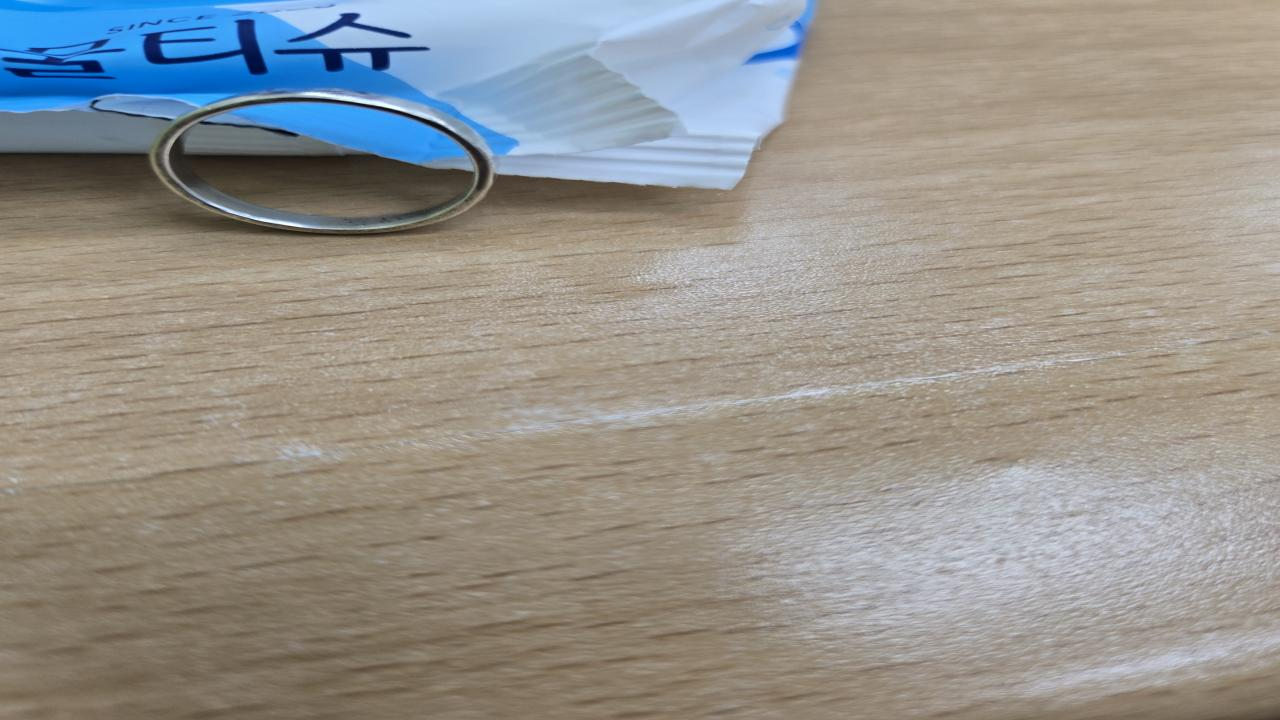ring: (151, 89, 499, 236)
